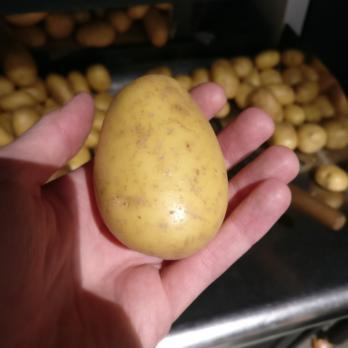Solid potato: (93, 72, 229, 259)
